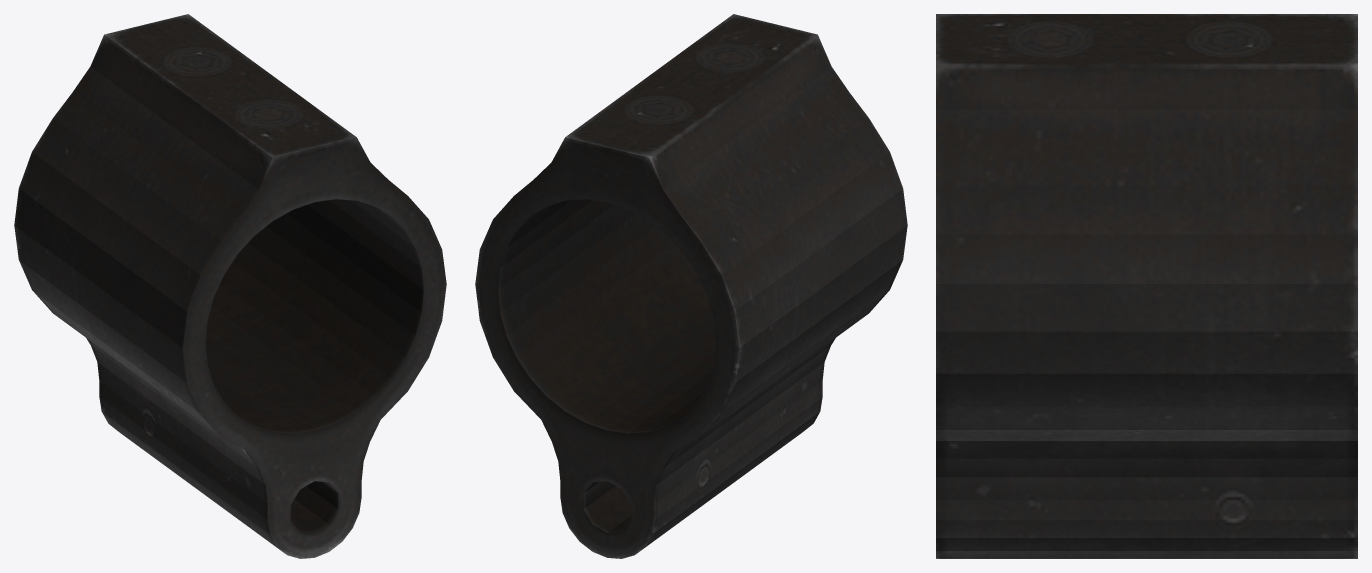
The picture shows the model from 3 angles, left to right: view 1: azimuth 30°, elevation 25°; view 2: azimuth 150°, elevation 25°; view 3: azimuth 270°, elevation 25°; orthographic projection. The views are drawn at different scales.
Parts seen in each view (by area): view 1: TW_6065dc8a132d4d12c81fd8e3_PZ_Import; view 2: TW_6065dc8a132d4d12c81fd8e3_PZ_Import; view 3: TW_6065dc8a132d4d12c81fd8e3_PZ_Import.
Boxes of the visible parts, box(x1,y1,x2,y2) form: TW_6065dc8a132d4d12c81fd8e3_PZ_Import: box(14, 14, 446, 558); TW_6065dc8a132d4d12c81fd8e3_PZ_Import: box(475, 14, 907, 558); TW_6065dc8a132d4d12c81fd8e3_PZ_Import: box(936, 14, 1357, 558).
Bounding box in the file's own units: 0.0133 × 0.0147 × 0.0197.
Materials: 1 (1 with a texture image).
